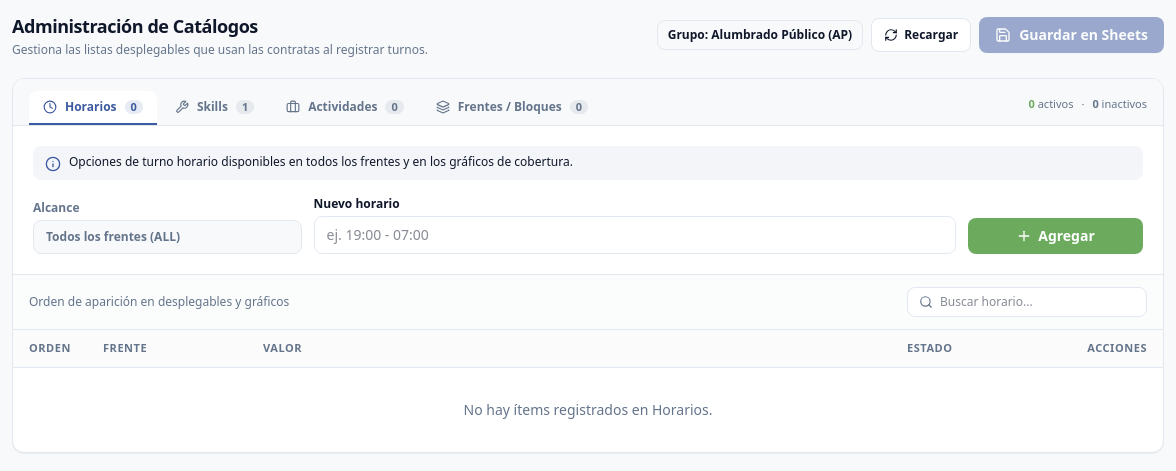
Test: AdminCatalogsTab › locks group-scoped AP admin to AP with a read-only badge
Expected: the text "Grupo: Alumbrado Público (AP)" is shown, [657, 20, 863, 50]
What coordinates should you click on to do the following:
click the button "Skills 1"
I would click on:
 (215, 108)
Its box is [161, 91, 268, 125].
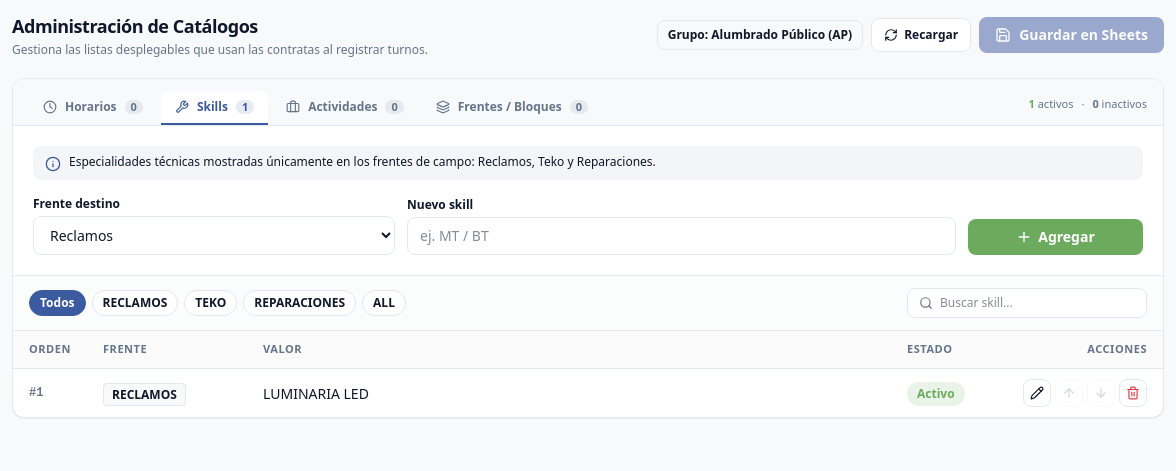
Expected: the text "LUMINARIA LED" is shown, [263, 384, 369, 402]
